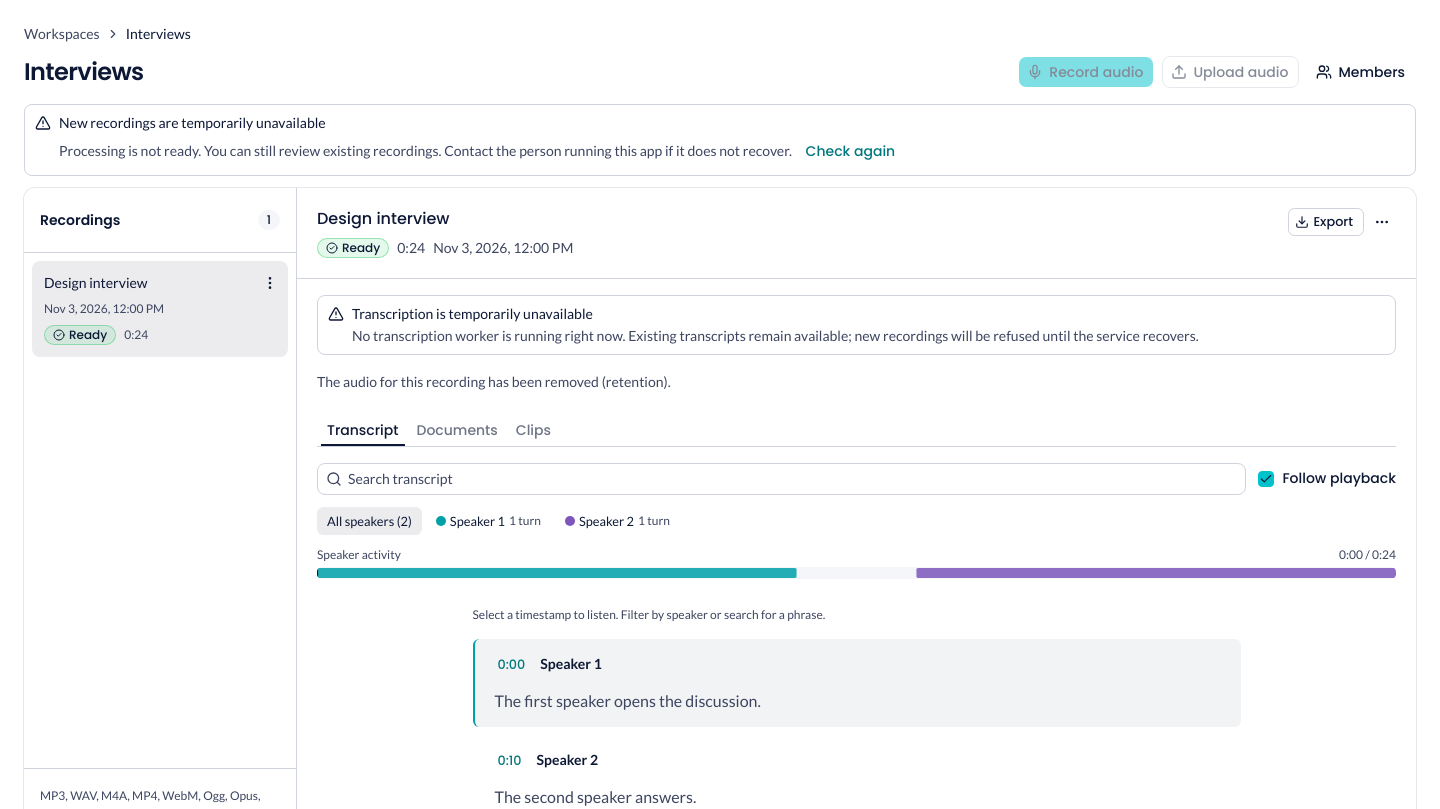
re-enables capture after an explicit availability refresh
expect the button "Upload audio" is disabled: met, box [1162,56,1300,88]
Click the button "Check again": coordinates (850, 151) [795,135,906,167]
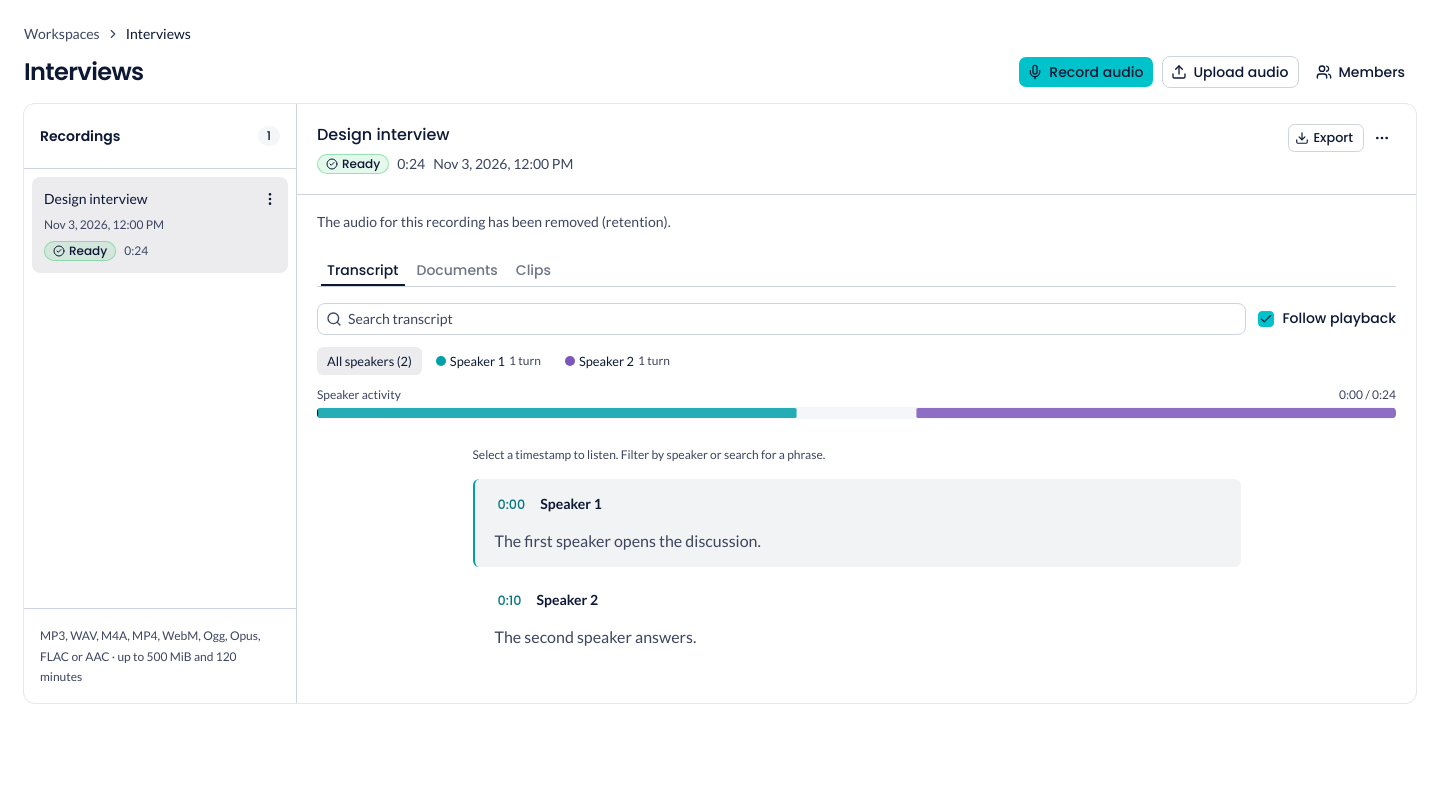
expect the button "Upload audio" is enabled: met, box [1162,56,1300,88]
